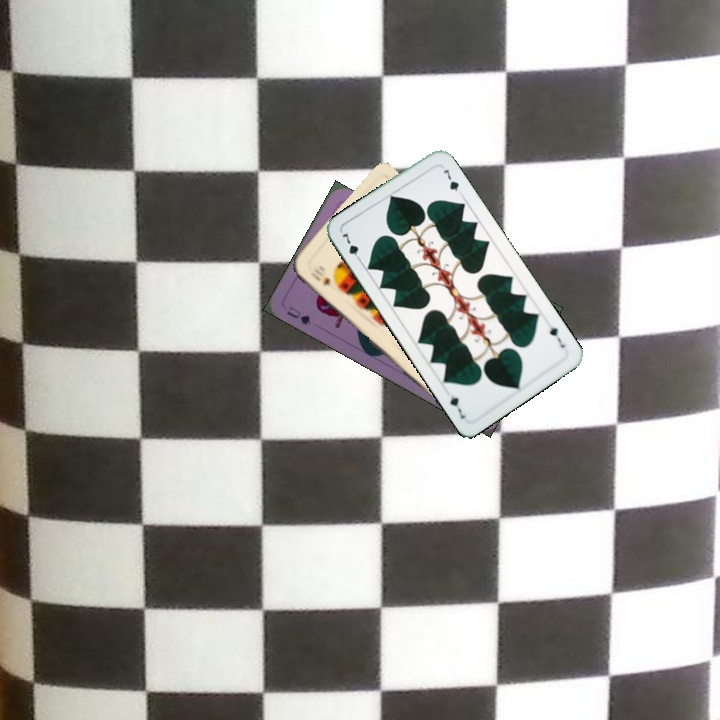G7: (338, 228, 364, 265), (545, 322, 568, 350)
GU: (283, 302, 314, 327)
S10: (307, 268, 333, 288)
